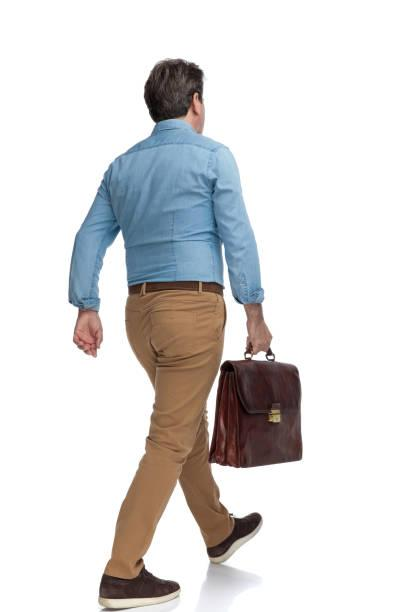Human: (76, 29, 281, 602)
